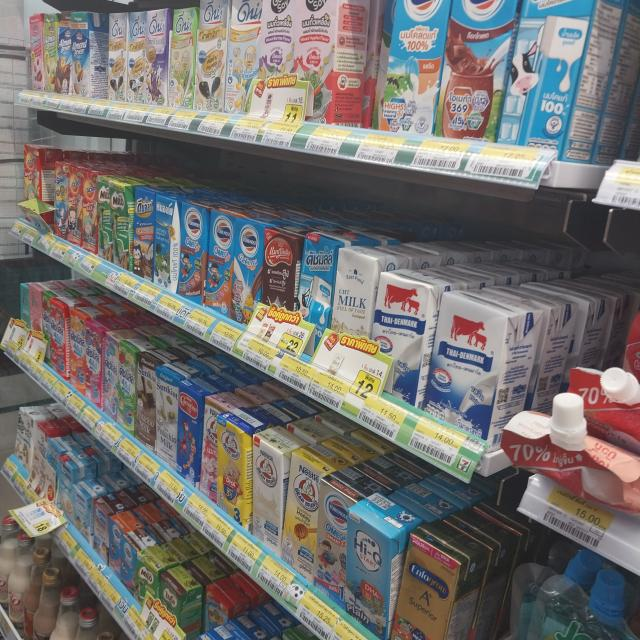plastik: (499, 0, 624, 164), (425, 290, 542, 450), (501, 392, 640, 515), (371, 269, 456, 408), (435, 0, 518, 141), (391, 521, 489, 640), (489, 285, 578, 414), (345, 494, 422, 640), (314, 466, 391, 609), (444, 508, 520, 640), (380, 0, 451, 135), (294, 0, 370, 126), (281, 445, 349, 582), (331, 246, 409, 338), (252, 426, 306, 556), (569, 368, 640, 455), (218, 409, 268, 530), (199, 391, 251, 502), (298, 232, 345, 348), (156, 361, 201, 469), (230, 218, 275, 324), (176, 378, 218, 486), (135, 349, 179, 451), (204, 209, 245, 316), (224, 0, 262, 114), (192, 0, 229, 111), (116, 338, 155, 435), (261, 228, 304, 311), (85, 319, 125, 408), (70, 11, 109, 99), (178, 201, 211, 304), (102, 329, 139, 420), (50, 296, 90, 380), (69, 306, 106, 394), (159, 565, 202, 640), (154, 194, 185, 292), (169, 8, 199, 109), (259, 0, 296, 79), (110, 178, 140, 271), (58, 449, 96, 522), (134, 545, 180, 604), (14, 406, 55, 471), (389, 484, 459, 522), (92, 494, 130, 564), (145, 9, 172, 106), (134, 186, 160, 281), (420, 471, 485, 509), (109, 510, 145, 578), (120, 529, 158, 592), (205, 578, 250, 631), (72, 479, 108, 545), (24, 144, 62, 205), (355, 456, 420, 491), (81, 169, 104, 254), (126, 11, 146, 102), (109, 12, 129, 101), (321, 435, 380, 465), (225, 609, 279, 640), (66, 165, 85, 246), (29, 281, 59, 331), (54, 11, 72, 94), (46, 435, 82, 476), (98, 175, 115, 261), (54, 161, 72, 239), (286, 418, 338, 445), (35, 419, 70, 456), (44, 14, 60, 91), (245, 404, 296, 428), (30, 14, 45, 91), (235, 385, 280, 406), (188, 356, 231, 376), (204, 372, 246, 392)
